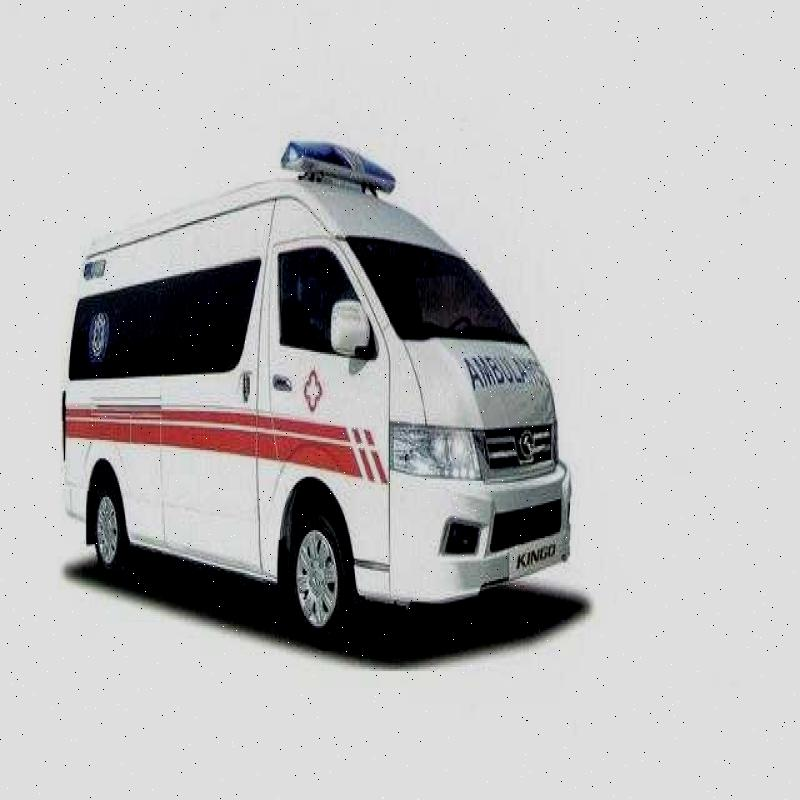AmbulanceSiren: (280, 134, 416, 197)
